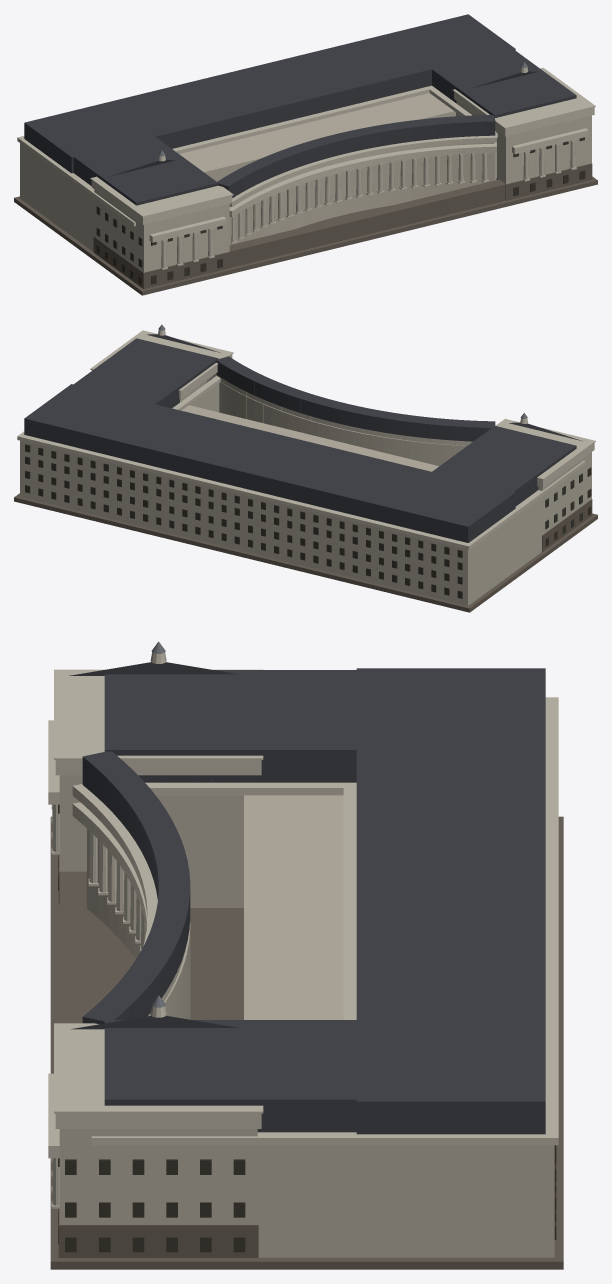
File: county_hall.glb
3 views of the same model, one above another, from view 1: azimuth 30°, elevation 25°; view 2: azimuth 150°, elevation 25°; view 3: azimuth 270°, elevation 25° (orthographic). The views are drawn at different scales.
Parts seen in each view (by area): view 1: county_hall; view 2: county_hall; view 3: county_hall.
Boxes of the visible parts, x1,y1,x2,y2 form: county_hall: [14, 14, 597, 295]; county_hall: [14, 324, 597, 612]; county_hall: [48, 641, 563, 1269].
Size of the model in its own units: 234 by 56.2 by 114.
